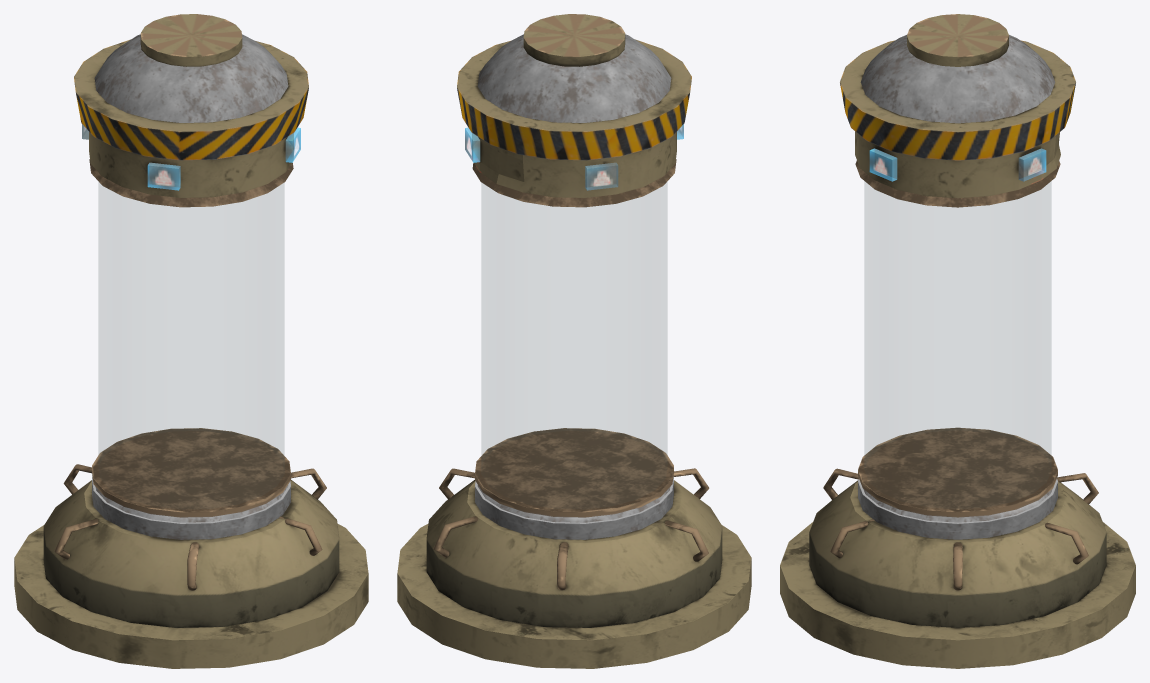
The model's file is lab_tube_for_p.a.l.glb.
3 views of the same model, side by side, from view 1: azimuth 30°, elevation 25°; view 2: azimuth 150°, elevation 25°; view 3: azimuth 270°, elevation 25° (orthographic).
Parts seen in each view (by area): view 1: pasted__pasted__pasted__pCylinder2; view 2: pasted__pasted__pasted__pCylinder2; view 3: pasted__pasted__pasted__pCylinder2.
Part boxes in pixels (x1,y1,x2,y2): pasted__pasted__pasted__pCylinder2: (14, 14, 368, 668); pasted__pasted__pasted__pCylinder2: (397, 14, 751, 668); pasted__pasted__pasted__pCylinder2: (780, 14, 1135, 668).
Bounding box in the file's own units: 3.8 × 6.58 × 3.8.
Materials: 1 (1 with a texture image).
